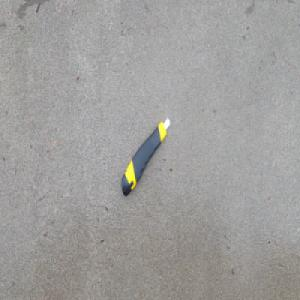Cutter: (121, 115, 172, 197)
